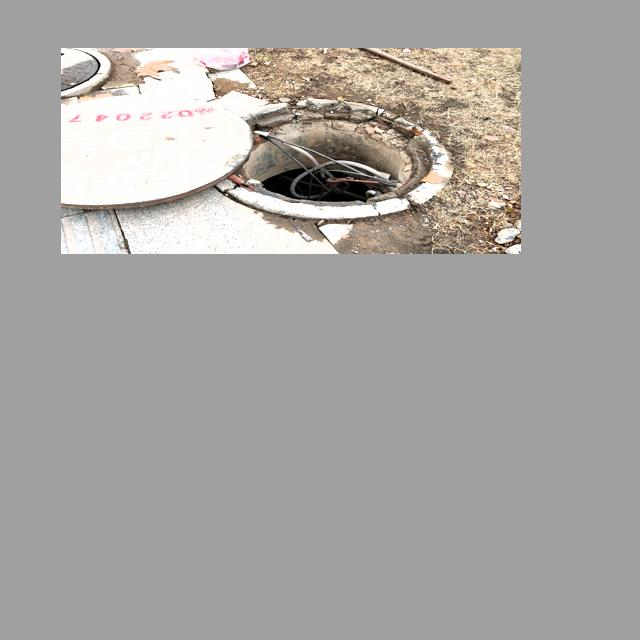uncovered: (61, 94, 453, 218)
